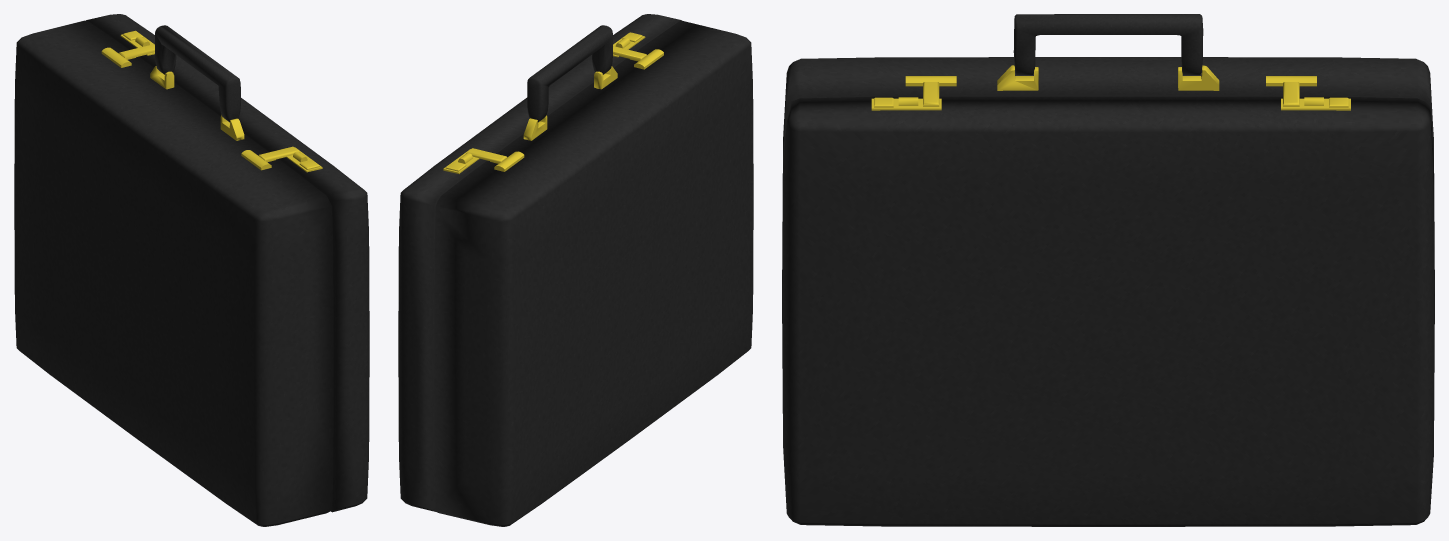
Rendered from morph-work.glb.
3 renders of one model, left to right at view 1: azimuth 30°, elevation 25°; view 2: azimuth 150°, elevation 25°; view 3: azimuth 270°, elevation 25°, orthographic. The views are drawn at different scales.
Visible parts, largest first — view 1: Team3_Sanchez_Briefcase_Team3_Sanchez_BriefcaseLeather_0, Team3_Sanchez_Briefcase_Team3_Sanchez_BriefcaseLocks_0; view 2: Team3_Sanchez_Briefcase_Team3_Sanchez_BriefcaseLeather_0, Team3_Sanchez_Briefcase_Team3_Sanchez_BriefcaseLocks_0; view 3: Team3_Sanchez_Briefcase_Team3_Sanchez_BriefcaseLeather_0, Team3_Sanchez_Briefcase_Team3_Sanchez_BriefcaseLocks_0.
Part boxes in pixels (box(x1,y1,x2,y2)): Team3_Sanchez_Briefcase_Team3_Sanchez_BriefcaseLeather_0: box(14, 14, 369, 526); Team3_Sanchez_Briefcase_Team3_Sanchez_BriefcaseLocks_0: box(101, 30, 322, 172); Team3_Sanchez_Briefcase_Team3_Sanchez_BriefcaseLeather_0: box(398, 14, 753, 526); Team3_Sanchez_Briefcase_Team3_Sanchez_BriefcaseLocks_0: box(443, 32, 663, 173); Team3_Sanchez_Briefcase_Team3_Sanchez_BriefcaseLeather_0: box(782, 14, 1434, 526); Team3_Sanchez_Briefcase_Team3_Sanchez_BriefcaseLocks_0: box(871, 65, 1350, 110).
Bounding box in the file's own units: 2.14 × 6.41 × 7.78.
2 materials, 1 textured.
